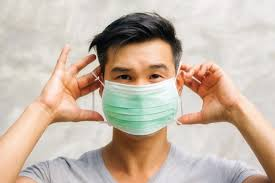surgical: (98, 78, 188, 135)
